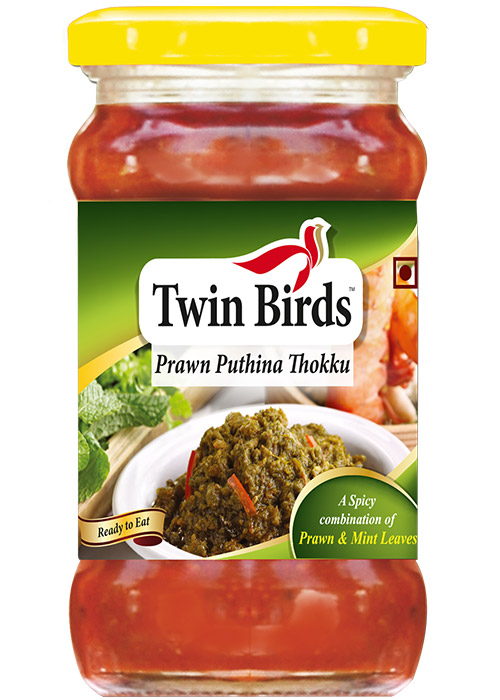nonveg_red: (392, 257, 419, 290)
